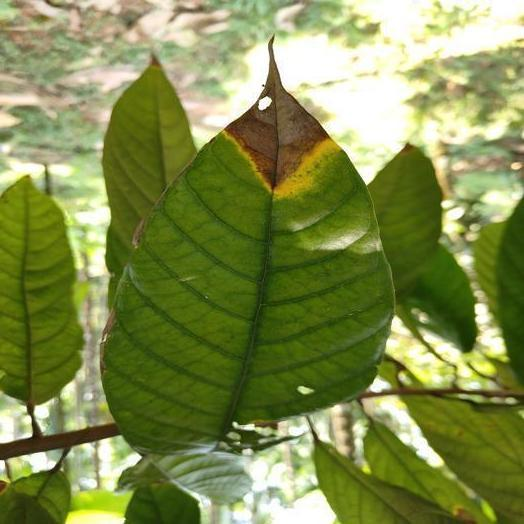Potassium: (102, 47, 393, 452)
